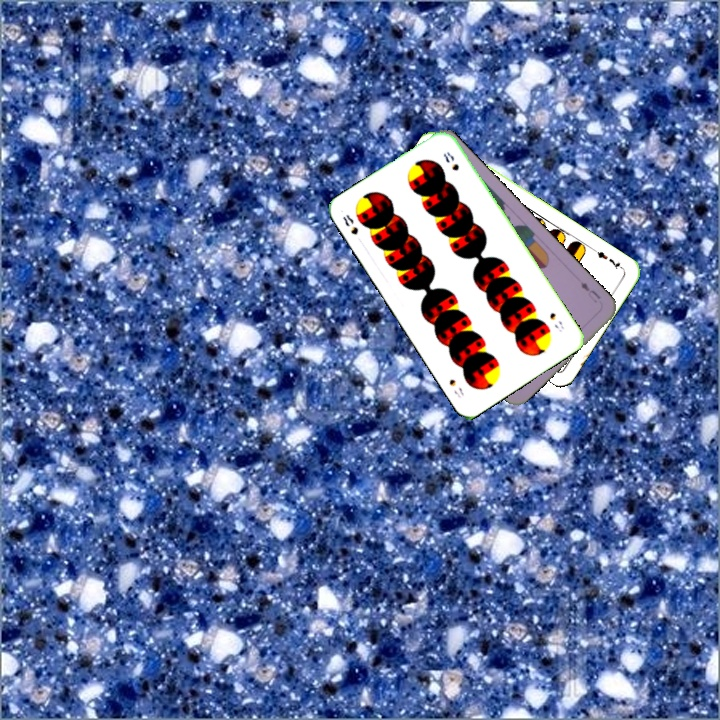E7: (590, 245, 626, 272)
EU: (576, 277, 603, 306)
S8: (339, 210, 361, 238), (545, 308, 566, 335)
